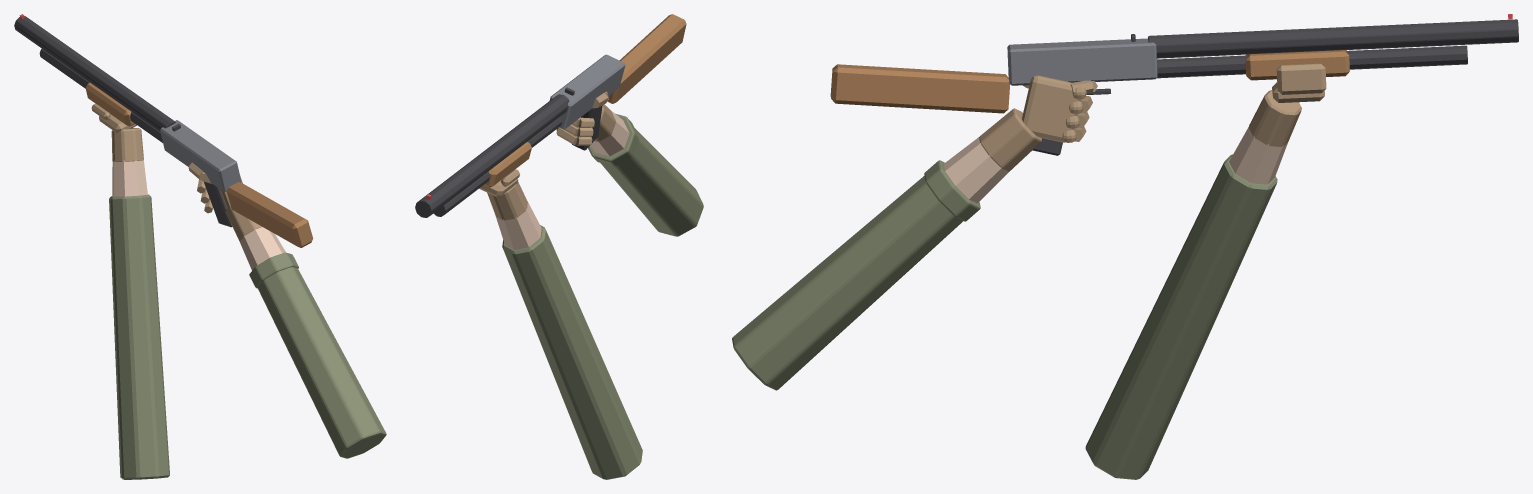
The model's file is viewmodel_shotgun.glb.
The picture shows the model from 3 angles, left to right: view 1: azimuth 30°, elevation 25°; view 2: azimuth 150°, elevation 25°; view 3: azimuth 270°, elevation 25°; orthographic projection. The views are drawn at different scales.
Parts seen in each view (by area): view 1: L_sleeve.001, sleeve.002, barrel, receiver.001, stock.001, L_forearm.001, forearm.002, L_cuff.001, sleeve_hem.002, mag_tube, pump, grip_body.002 (+1 smaller); view 2: L_sleeve.001, sleeve.002, barrel, stock.001, receiver.001, L_forearm.001, L_cuff.001, mag_tube, sleeve_hem.002, pump, forearm.002, cuff.002 (+2 smaller); view 3: L_sleeve.001, sleeve.002, barrel, stock.001, receiver.001, mag_tube, hand_back.002, forearm.002, cuff.002, pump, L_forearm.001, L_cuff.001 (+2 smaller).
Part boxes in pixels (box(x1,y1,x2,y2)): L_sleeve.001: box(109, 194, 169, 479); sleeve.002: box(257, 267, 386, 458); barrel: box(14, 16, 176, 131); receiver.001: box(160, 120, 241, 191); stock.001: box(226, 182, 313, 247); L_forearm.001: box(112, 159, 147, 196); forearm.002: box(239, 227, 285, 270); L_cuff.001: box(111, 128, 143, 161); sleeve_hem.002: box(249, 252, 298, 288); mag_tube: box(39, 49, 162, 142); pump: box(85, 82, 134, 126); grip_body.002: box(204, 182, 232, 227); L_sleeve.001: box(502, 225, 642, 479); sleeve.002: box(600, 128, 703, 236); barrel: box(415, 94, 569, 217); stock.001: box(607, 14, 686, 103); receiver.001: box(549, 54, 625, 129); L_forearm.001: box(495, 201, 541, 249); L_cuff.001: box(487, 181, 527, 220); mag_tube: box(433, 116, 562, 216); sleeve_hem.002: box(588, 113, 638, 166); pump: box(484, 142, 531, 187); forearm.002: box(590, 111, 629, 156); cuff.002: box(594, 104, 615, 141); L_sleeve.001: box(1085, 154, 1277, 479); sleeve.002: box(732, 176, 963, 390); barrel: box(1148, 19, 1518, 58); stock.001: box(830, 64, 1010, 113); receiver.001: box(1007, 38, 1157, 85); mag_tube: box(1157, 45, 1467, 78); hand_back.002: box(1022, 75, 1079, 142); forearm.002: box(943, 137, 1008, 203); cuff.002: box(979, 108, 1041, 171); pump: box(1245, 50, 1349, 80); L_forearm.001: box(1229, 126, 1287, 184); L_cuff.001: box(1249, 90, 1301, 146).
Bounding box in the file's own units: 0.0774 × 0.2115 × 0.3187.
